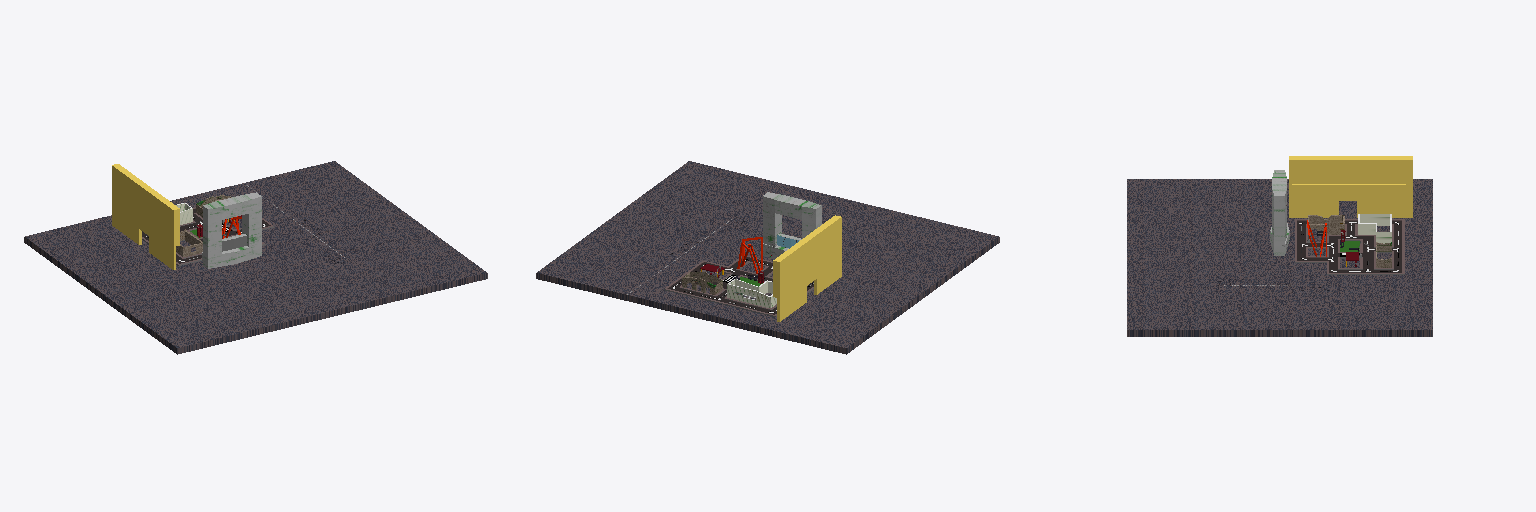
The picture shows the model from 3 angles: view 1: azimuth 30°, elevation 25°; view 2: azimuth 150°, elevation 25°; view 3: azimuth 270°, elevation 25°; orthographic projection.
Visible parts, largest first — view 1: ciudad_polySurface41_ciudad_ciudad_polySurface24pCylinder001, ciudad_ciudad_polySurface56_ciudad_polySurface022, ciudad_pCube001, ciudad_ciudad_polySurface56_ciudad_polySurface023; view 2: ciudad_polySurface41_ciudad_ciudad_polySurface24pCylinder001, ciudad_ciudad_polySurface56_ciudad_polySurface022, ciudad_pCube001, ciudad_ciudad_polySurface56_ciudad_polySurface023, ciudad_ciudad_polySurface56_ciudad_polySurface57, ciudad_ciudad_polySurface56_ciudad_polySurface006; view 3: ciudad_polySurface41_ciudad_ciudad_polySurface24pCylinder001, ciudad_ciudad_polySurface56_ciudad_polySurface022, ciudad_ciudad_polySurface56_ciudad_polySurface023, ciudad_pCube001, ciudad_ciudad_polySurface56_ciudad_polySurface57, ciudad_ciudad_polySurface56_ciudad_polySurface015.
Part boxes in pixels (x1,y1,x2,y2): ciudad_polySurface41_ciudad_ciudad_polySurface24pCylinder001: (24,161,487,354); ciudad_ciudad_polySurface56_ciudad_polySurface022: (112,164,179,269); ciudad_pCube001: (202,192,261,268); ciudad_ciudad_polySurface56_ciudad_polySurface023: (142,207,273,265); ciudad_polySurface41_ciudad_ciudad_polySurface24pCylinder001: (536,161,999,354); ciudad_ciudad_polySurface56_ciudad_polySurface022: (773,215,841,321); ciudad_pCube001: (763,192,821,259); ciudad_ciudad_polySurface56_ciudad_polySurface023: (664,256,813,316); ciudad_ciudad_polySurface56_ciudad_polySurface57: (727,279,776,307); ciudad_ciudad_polySurface56_ciudad_polySurface006: (682,272,722,294); ciudad_polySurface41_ciudad_ciudad_polySurface24pCylinder001: (1127,179,1432,336); ciudad_ciudad_polySurface56_ciudad_polySurface022: (1289,156,1412,217); ciudad_ciudad_polySurface56_ciudad_polySurface023: (1295,219,1404,274); ciudad_pCube001: (1270,170,1289,255); ciudad_ciudad_polySurface56_ciudad_polySurface57: (1358,214,1391,243); ciudad_ciudad_polySurface56_ciudad_polySurface015: (1308,215,1344,234).
Size of the model in its own units: 262 by 99.33 by 224.
Materials: 26 (12 with a texture image).